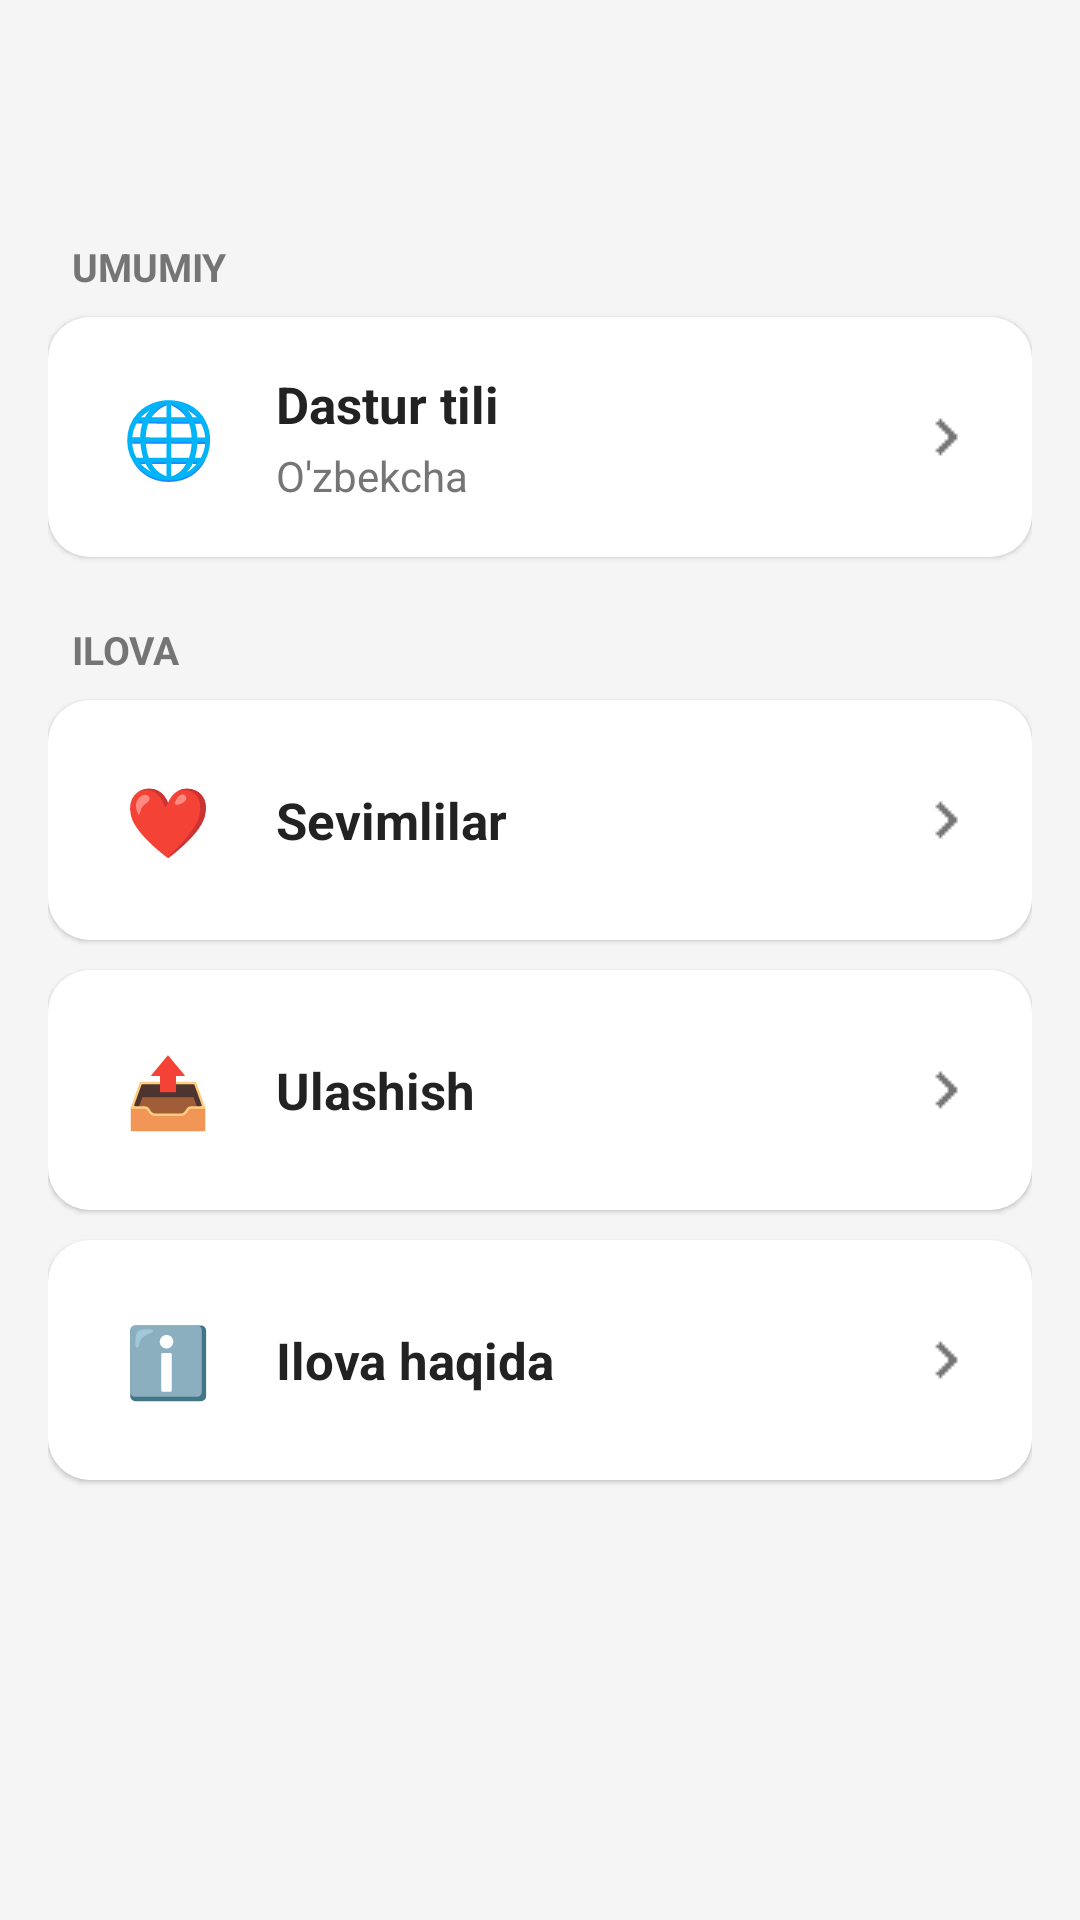

Point at icon controls on the screen. Image size 1080 × 1920, points as (x,y).
arrow right: (946,437), (946,820), (946,1090), (946,1360)
